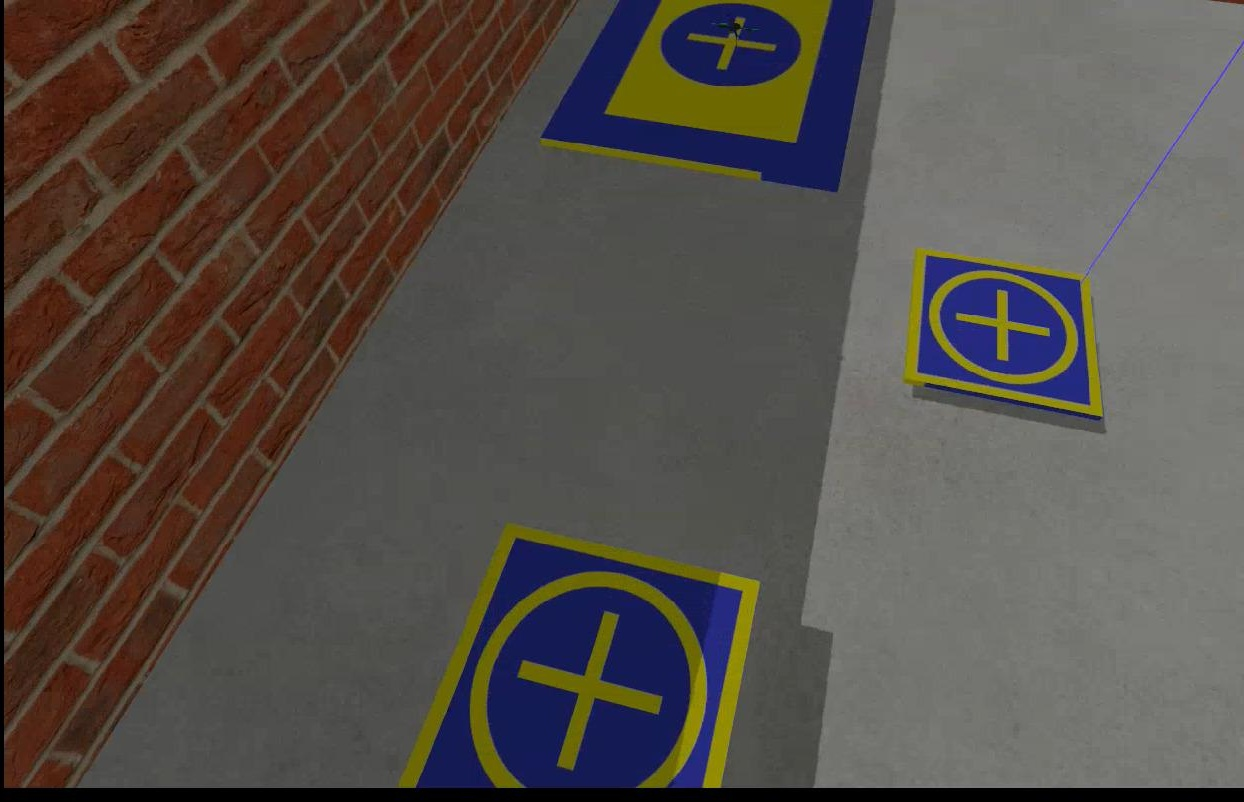large_base: (537, 1, 871, 195)
small_base: (399, 519, 761, 791), (899, 245, 1104, 426)
